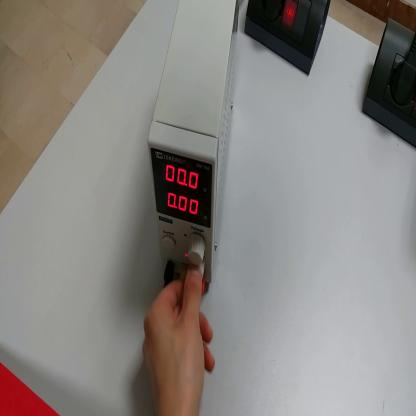hand: (141, 264, 213, 416)
power supply: (148, 2, 241, 285)
socket: (362, 16, 416, 148), (245, 1, 331, 77)
